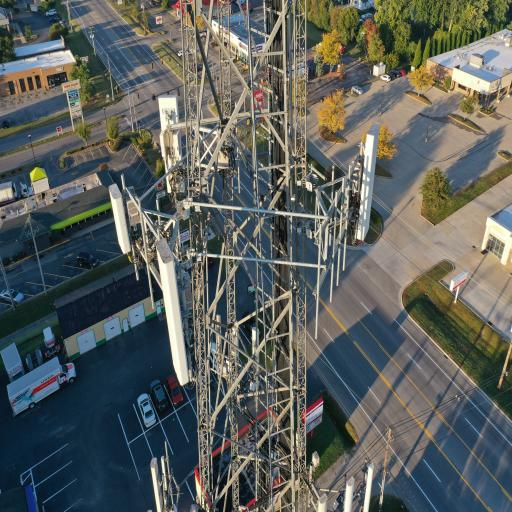supporting_tower: (97, 0, 395, 512)
